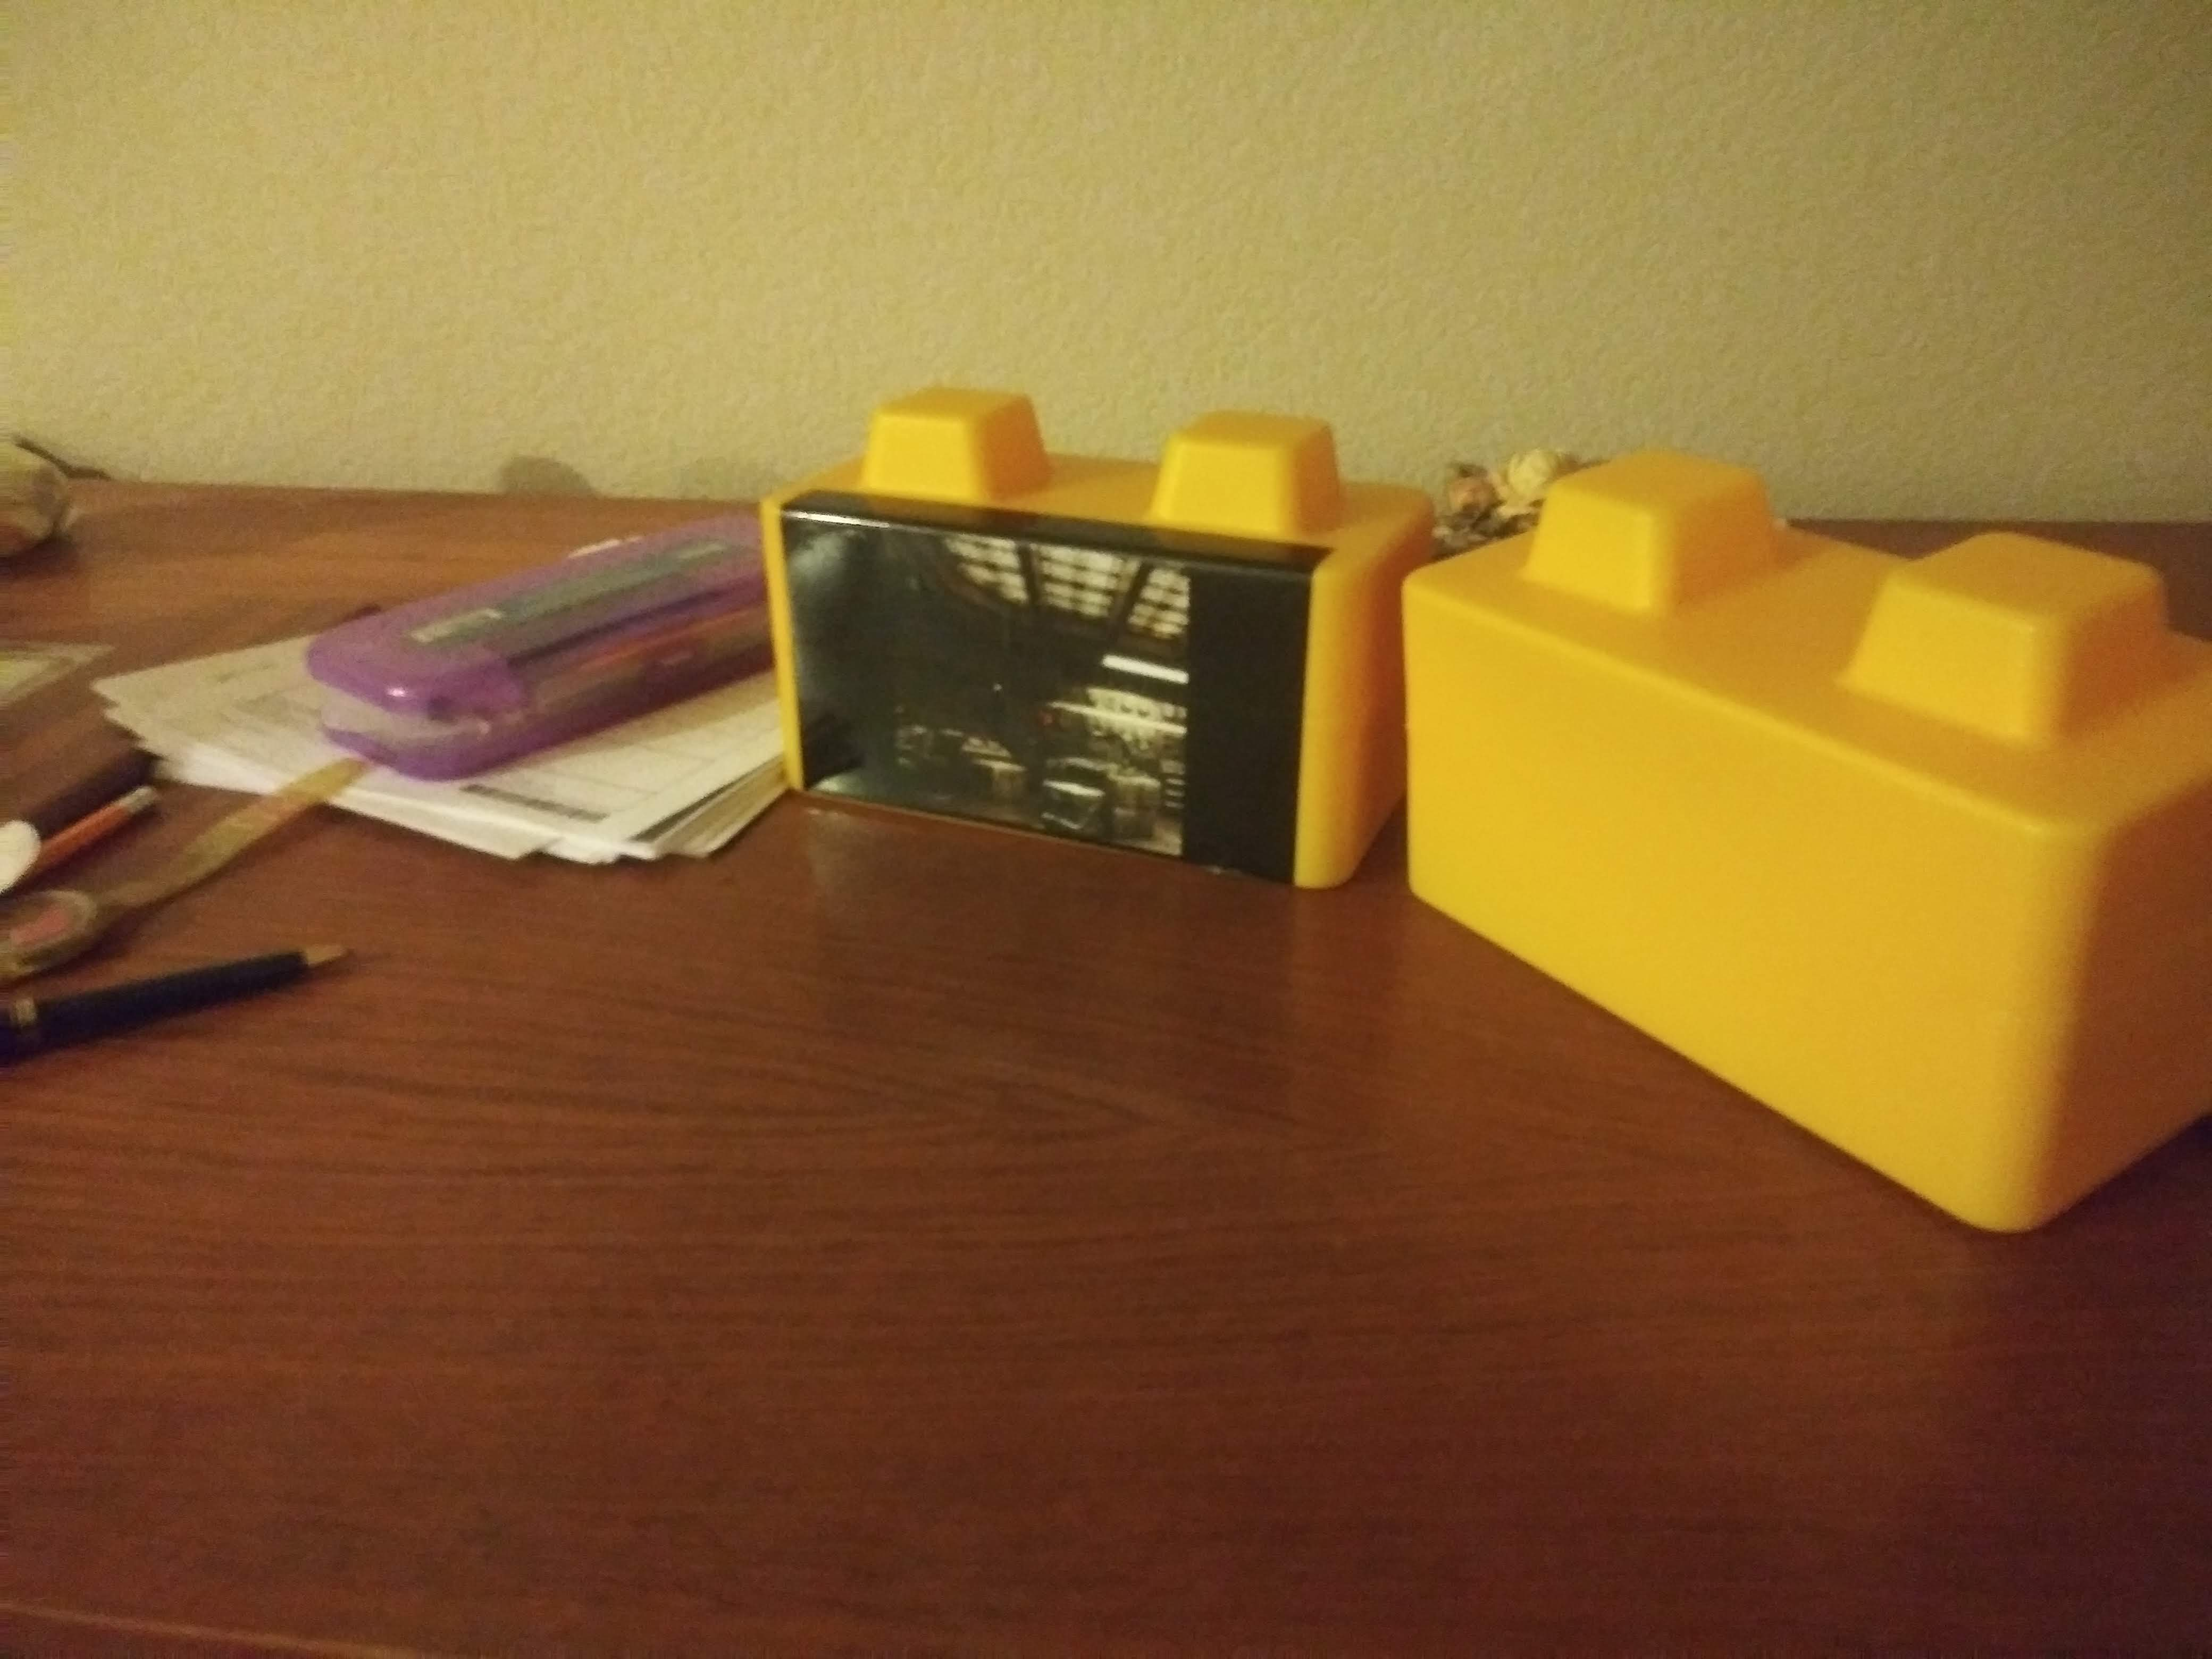skystone: (779, 430, 1366, 873)
stone: (1430, 514, 2196, 1161)
